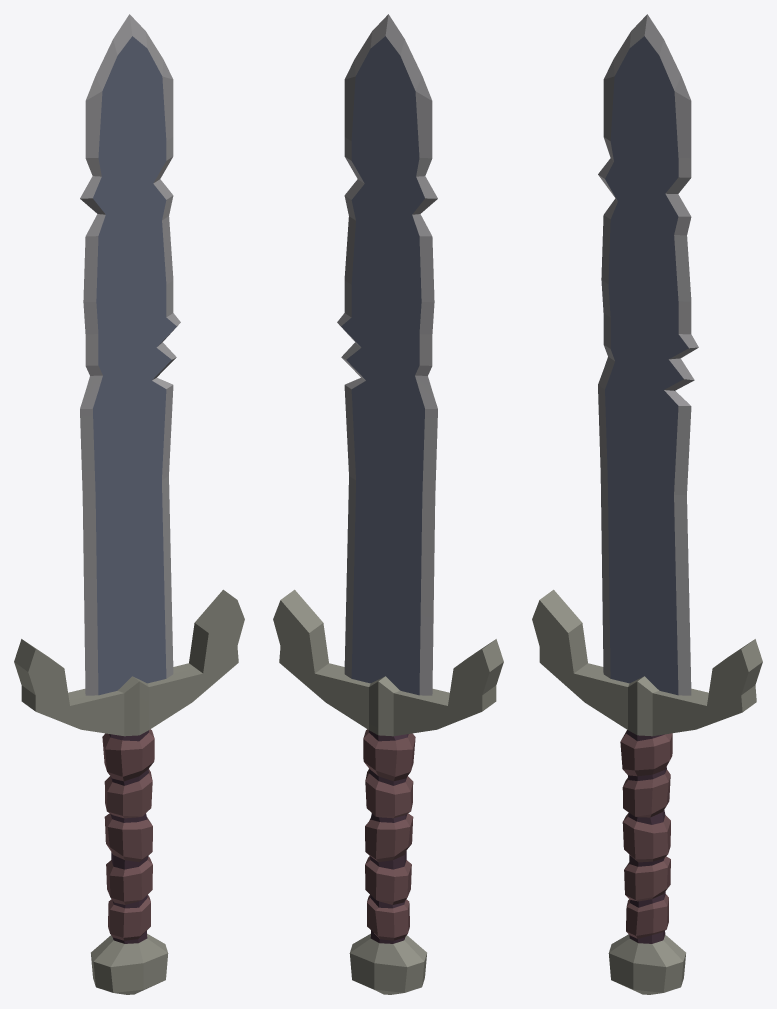
File: sword.glb
3 renders of one model, left to right at view 1: azimuth 30°, elevation 25°; view 2: azimuth 150°, elevation 25°; view 3: azimuth 330°, elevation 25°, orthographic.
Parts seen in each view (by area): view 1: Sword; view 2: Sword; view 3: Sword.
Boxes of the visible parts, x1,y1,x2,y2 form: Sword: (14,14,244,994); Sword: (273,14,503,994); Sword: (532,14,762,994).
Size of the model in its own units: 0.5344 by 2.3 by 0.1222.
